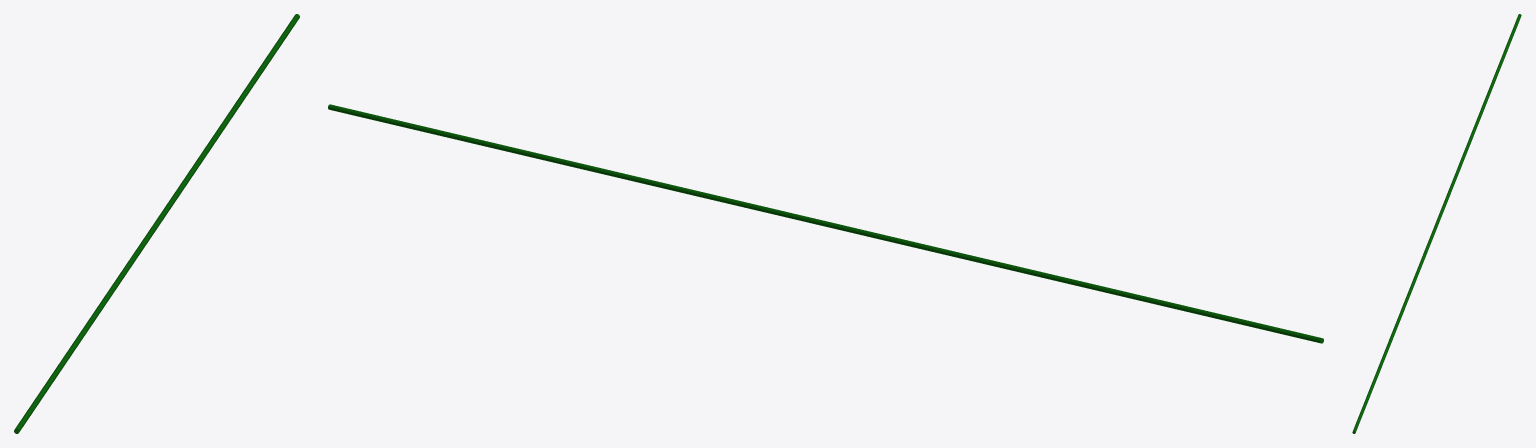
Rendered from Event_420107950_jet_0.fbx.
3 views of the same model, side by side, from view 1: azimuth 90°, elevation 25°; view 2: azimuth 150°, elevation 25°; view 3: azimuth 270°, elevation 25° (orthographic). The views are drawn at different scales.
Visible parts, largest first — view 1: Model; view 2: Model; view 3: Model.
Boxes of the visible parts, left/top/right/bottom form: Model: left=14, top=14, right=299, bottom=433; Model: left=328, top=104, right=1323, bottom=343; Model: left=1352, top=14, right=1521, bottom=433.
Bounding box in the file's own units: 9.51 × 1.19 × 2.05.
